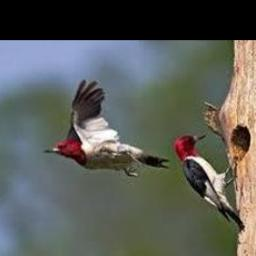Woodpecker: (43, 79, 170, 177), (173, 134, 245, 232)
